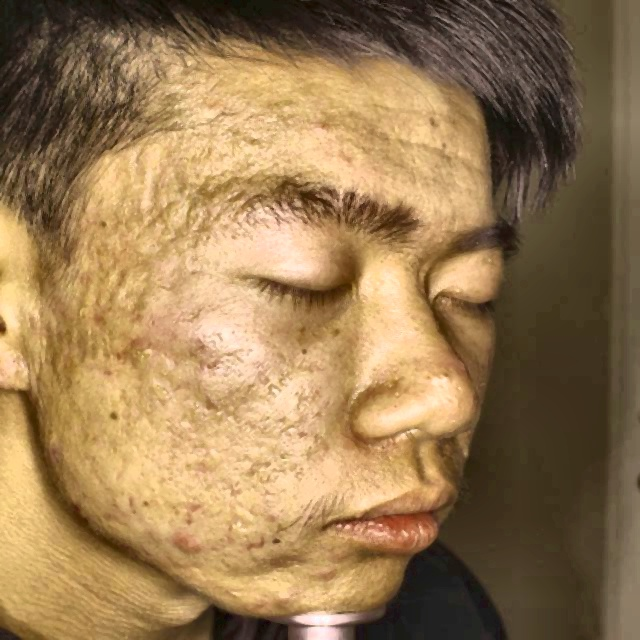comedone: (130, 327, 166, 360), (161, 528, 200, 551), (255, 591, 293, 611), (304, 561, 335, 584)
